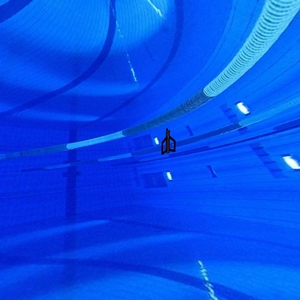submarine: (157, 126, 180, 160)
